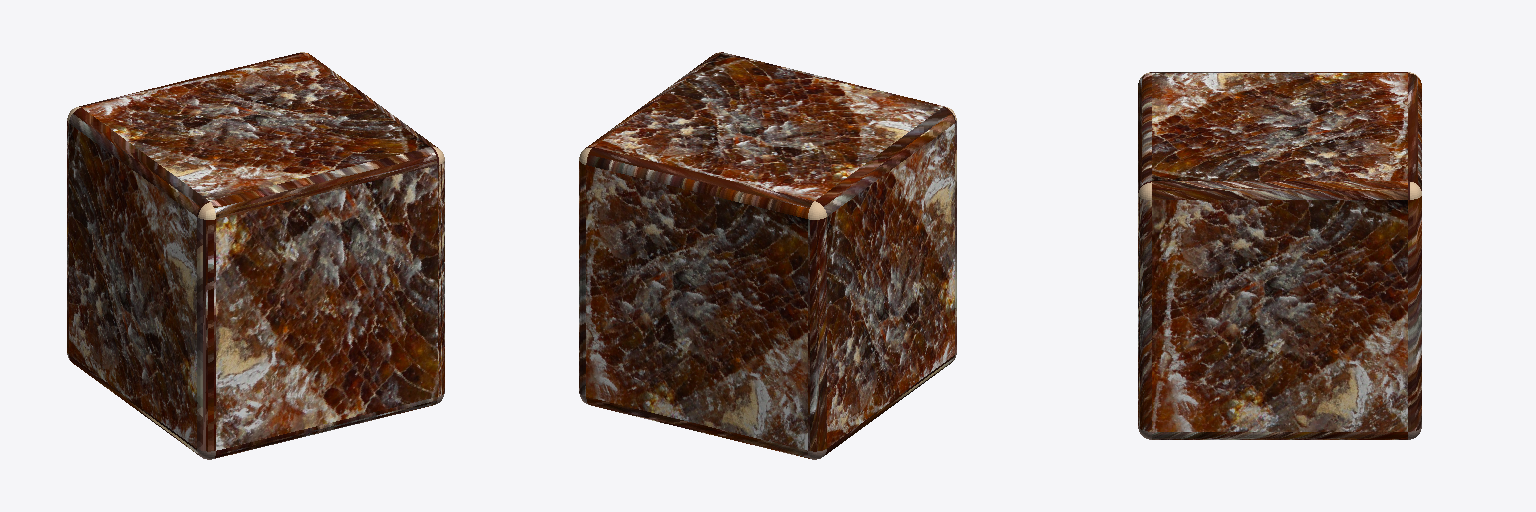
The picture shows the model from 3 angles: view 1: azimuth 30°, elevation 25°; view 2: azimuth 150°, elevation 25°; view 3: azimuth 270°, elevation 25°; orthographic projection.
Visible parts, largest first — view 1: Cube; view 2: Cube; view 3: Cube.
Part boxes in pixels (left/top/right/bottom): Cube: left=67, top=52, right=444, bottom=459; Cube: left=579, top=52, right=956, bottom=459; Cube: left=1138, top=72, right=1421, bottom=439.
Size of the model in its own units: 2 by 2 by 2.
Materials: 1 (1 with a texture image).